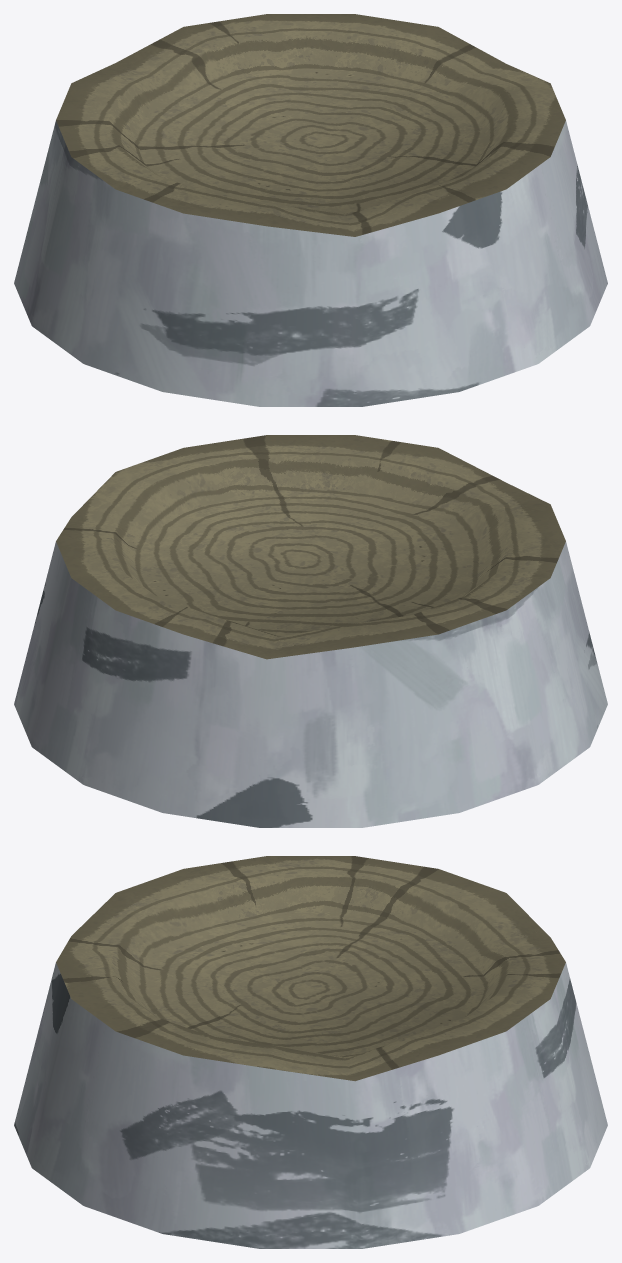
The model's file is Treetop Branch Cut.fbx.
The picture shows the model from 3 angles, top to bottom: view 1: azimuth 30°, elevation 25°; view 2: azimuth 150°, elevation 25°; view 3: azimuth 270°, elevation 25°; orthographic projection.
Parts seen in each view (by area): view 1: Cut Branch; view 2: Cut Branch; view 3: Cut Branch.
Boxes of the visible parts, bbox=[...] form: Cut Branch: bbox=[14, 14, 607, 406]; Cut Branch: bbox=[14, 435, 607, 827]; Cut Branch: bbox=[14, 856, 607, 1248].
Size of the model in its own units: 197 by 60.6 by 200.
